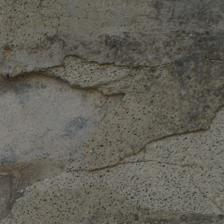Crack: (0, 5, 122, 219), (95, 65, 127, 154), (42, 44, 86, 98)
